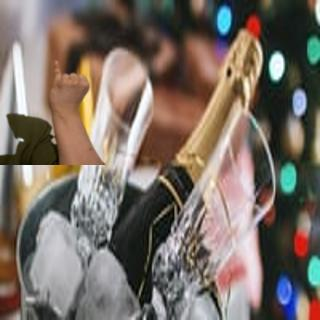FINE: (46, 57, 92, 119)
